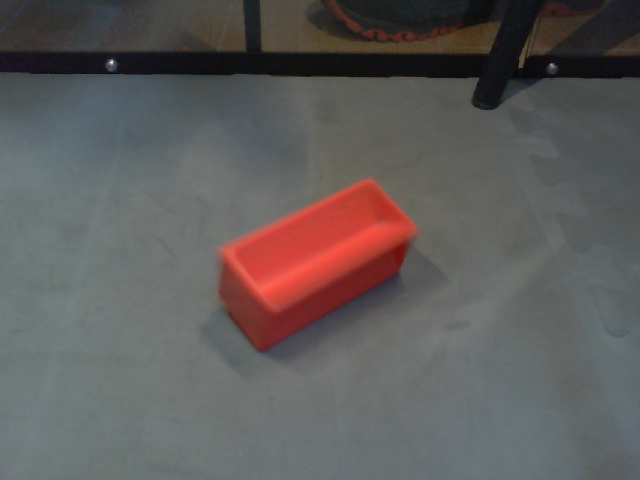RedSample: (217, 174, 419, 366)
